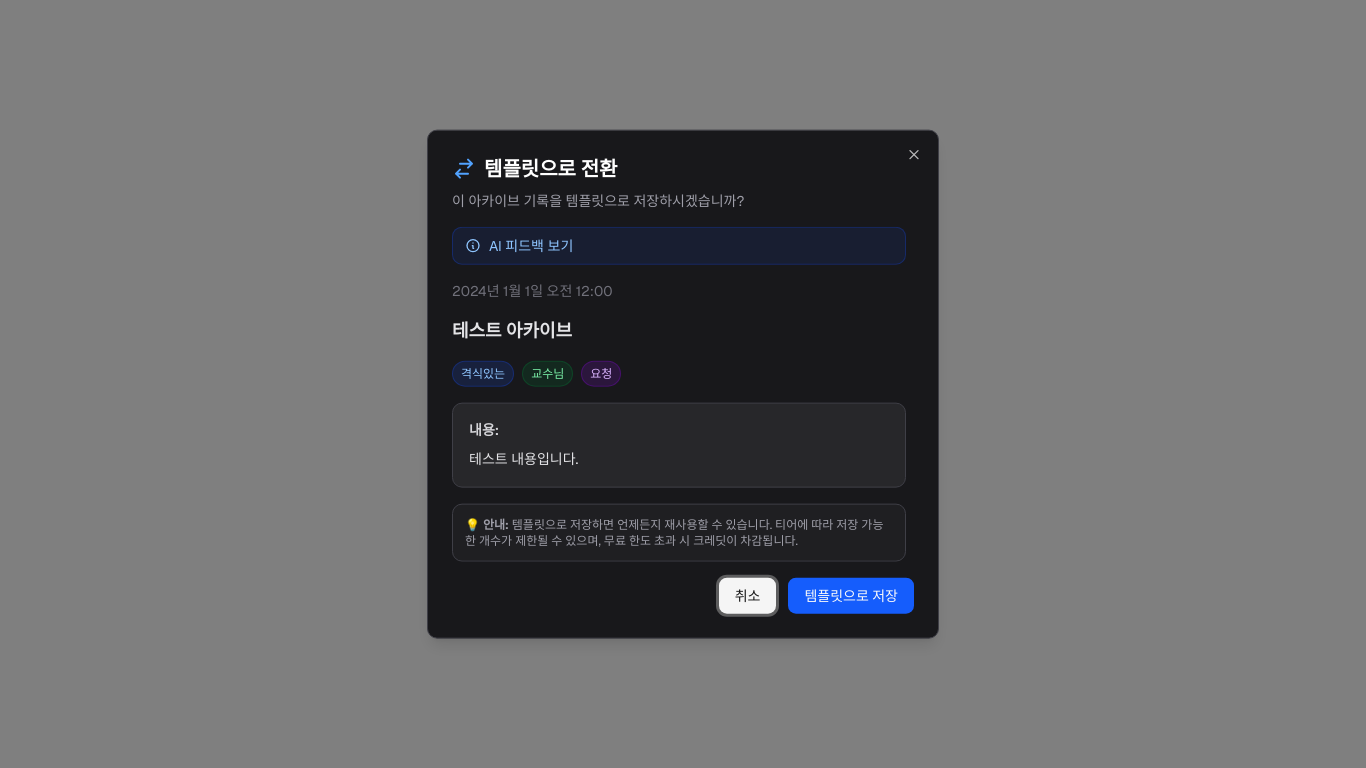
Test: ConvertToTemplateModal › AI 피드백 (rationale) › AI 피드백 보기 버튼 클릭 시 피드백을 표시한다
Expected: the text "AI 피드백 보기" is shown, [489,236,573,256]
Click the button "AI 피드백 보기".
click(518, 246)  # box [452,227,906,265]
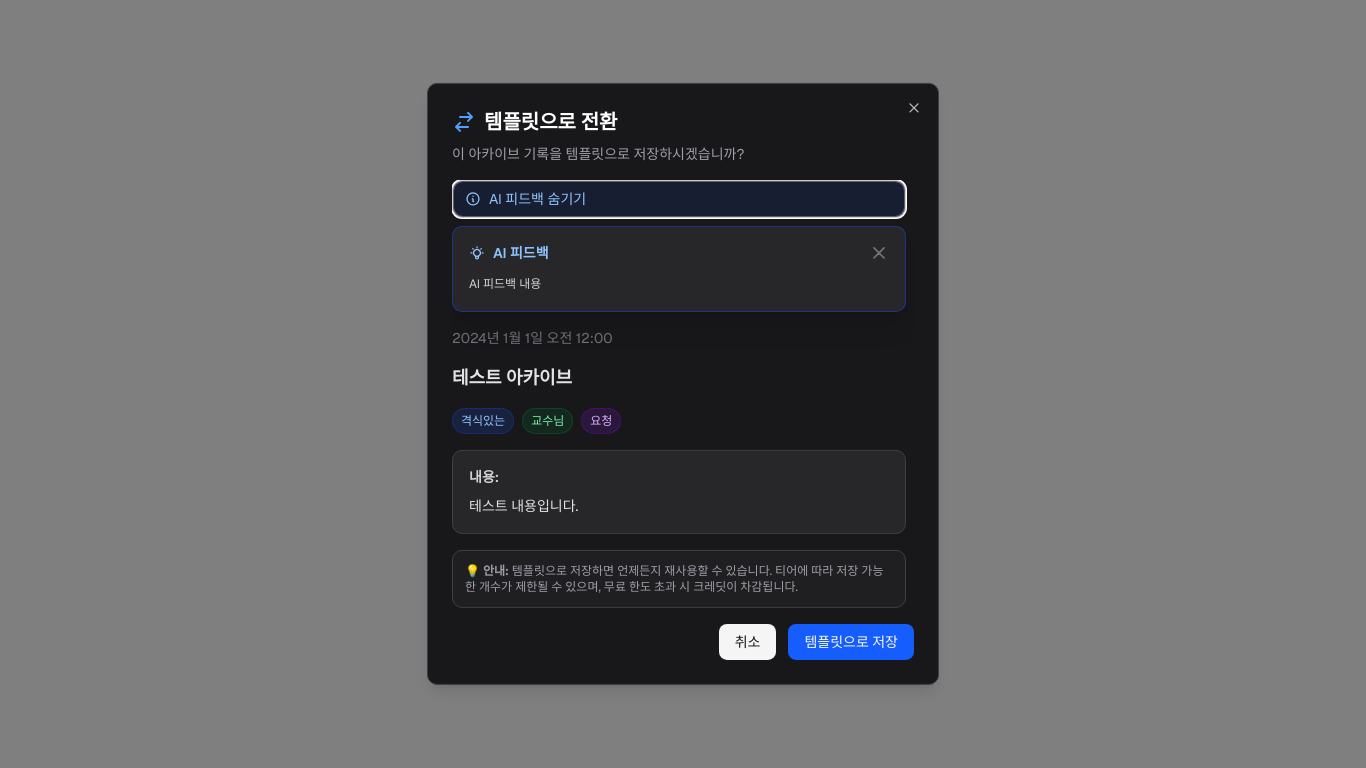
Result: the text "AI 피드백 내용" is shown at [469,276,541,292]
Result: the text "AI 피드백 숨기기" is shown at [489,189,586,209]
